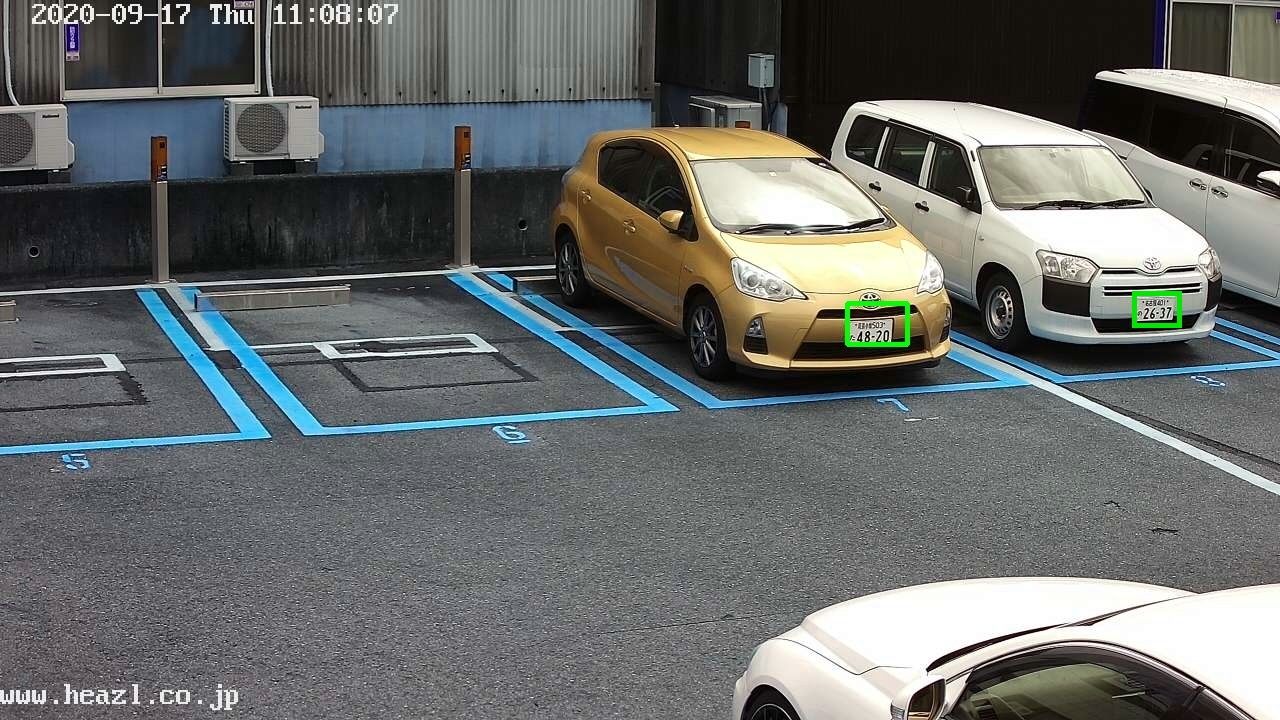number_plate: (848, 318, 893, 348), (1136, 296, 1176, 322)
